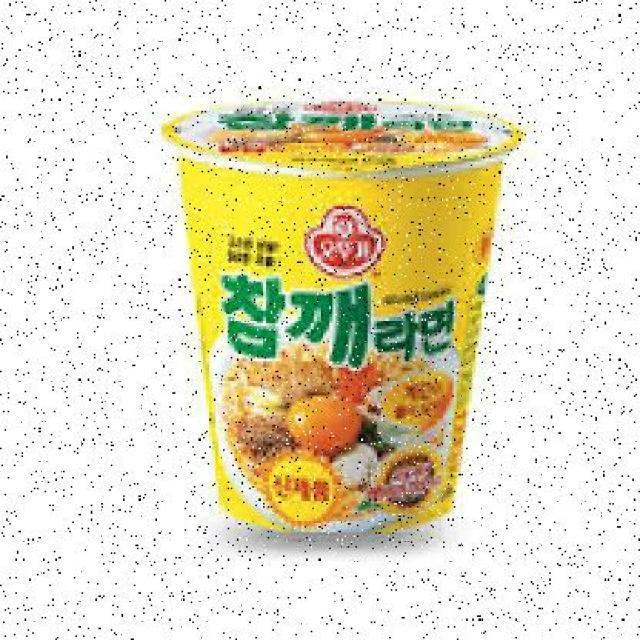Miscellaneous: (164, 99, 513, 544)
